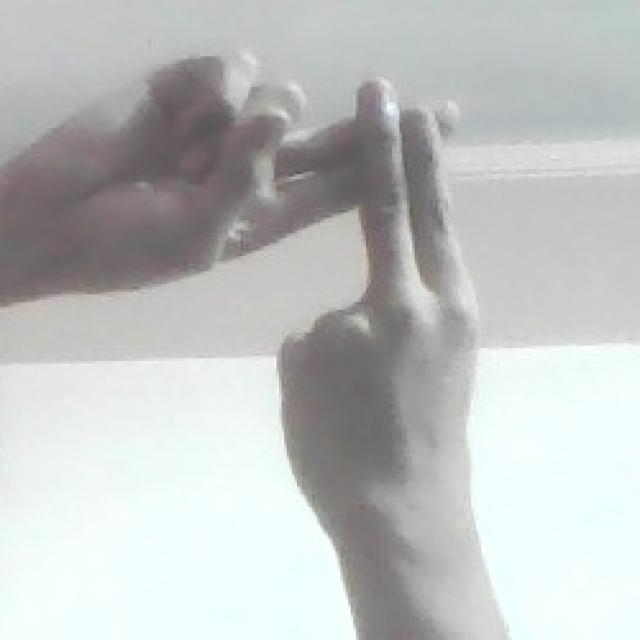Alphabet-F: (28, 39, 484, 513)
